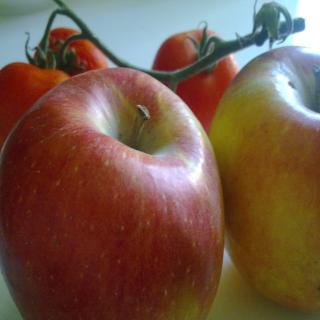tomato: (1, 0, 308, 150), (150, 19, 239, 133), (23, 25, 112, 78)
